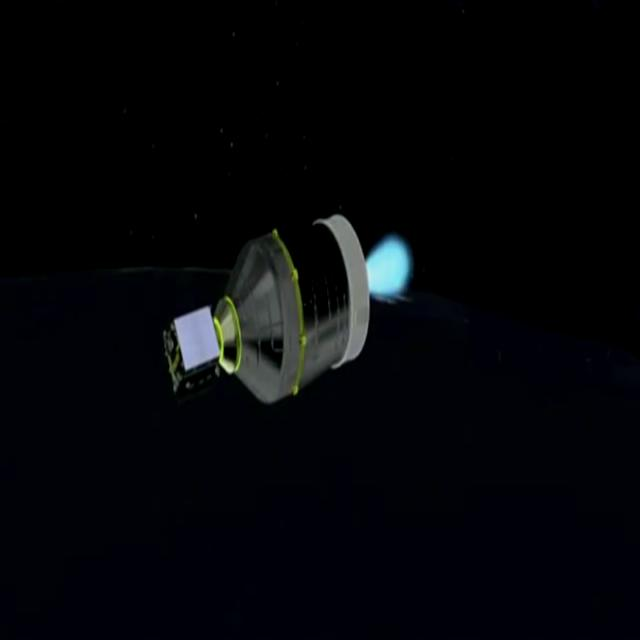medium_debris: (150, 170, 420, 453)
